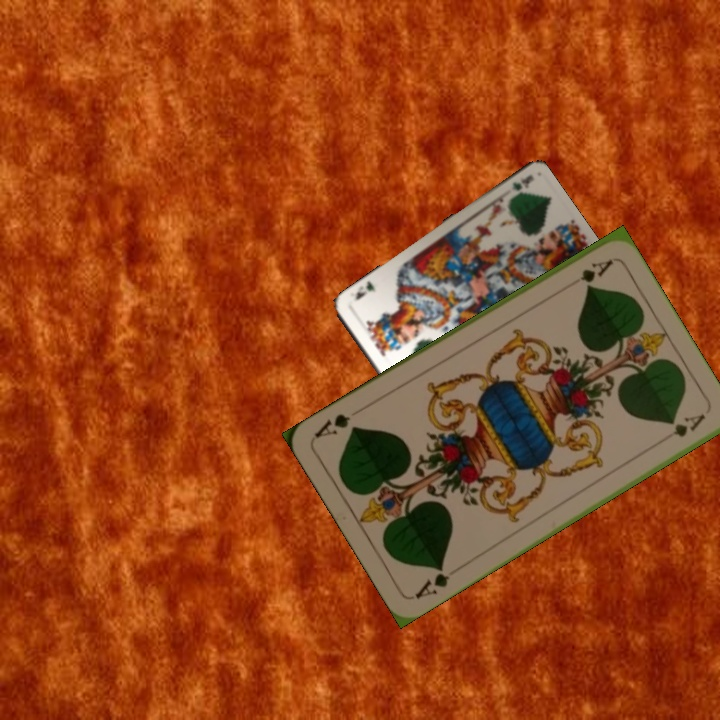GA: (561, 255, 615, 292), (410, 562, 453, 602)
GK: (507, 171, 536, 193)
